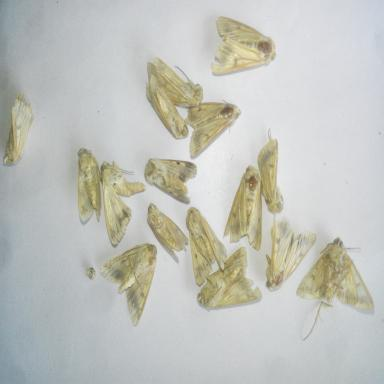abw: (294, 230, 378, 319), (97, 239, 162, 332), (207, 11, 283, 83), (96, 152, 149, 251), (194, 243, 265, 316), (261, 214, 320, 295), (178, 94, 246, 162), (221, 158, 266, 256), (181, 200, 230, 289), (146, 52, 206, 115), (140, 152, 204, 210), (143, 198, 191, 269), (253, 124, 289, 218), (68, 144, 107, 226), (141, 79, 191, 142), (1, 89, 35, 172)
